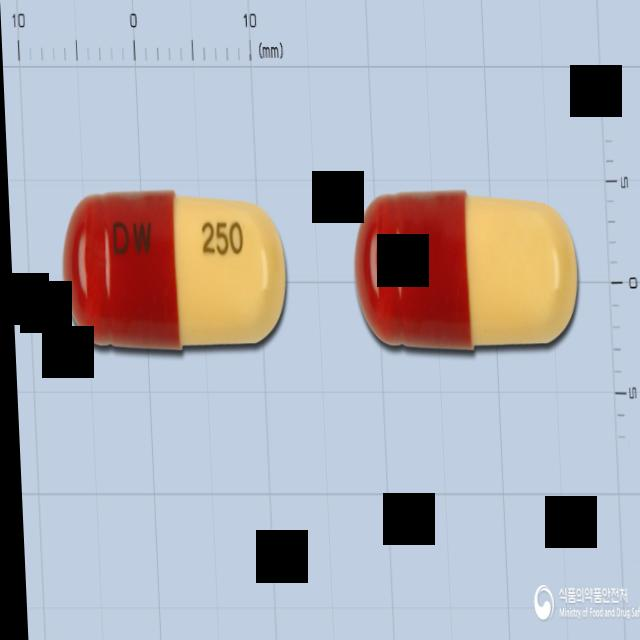Gomcillin Cap: (349, 191, 579, 354), (57, 191, 287, 353)
